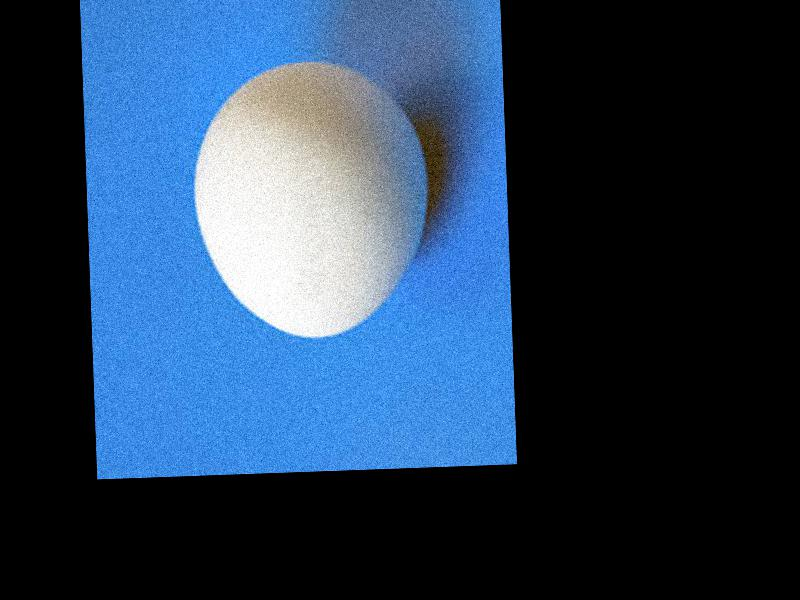Eggs: (190, 55, 434, 344)
